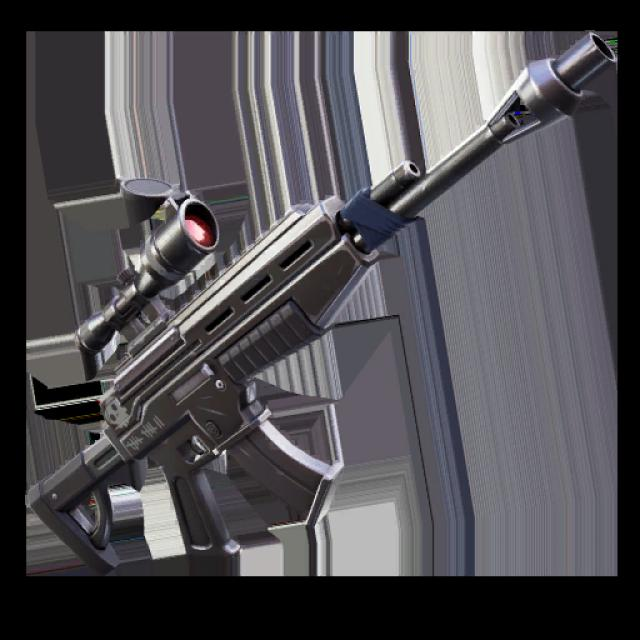Rifle: (30, 34, 614, 574)
